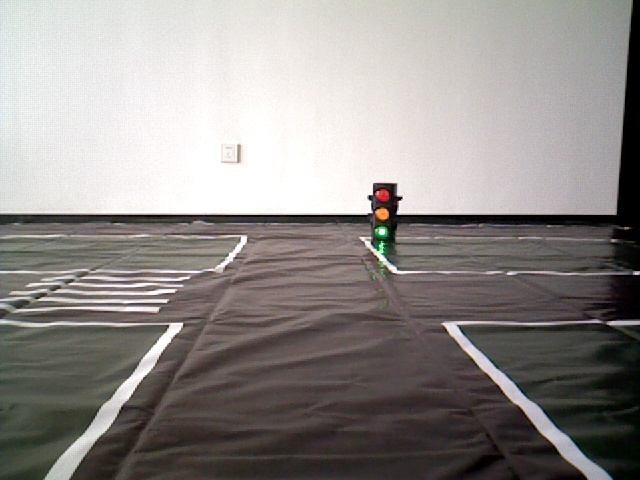green: (372, 181, 390, 236)
